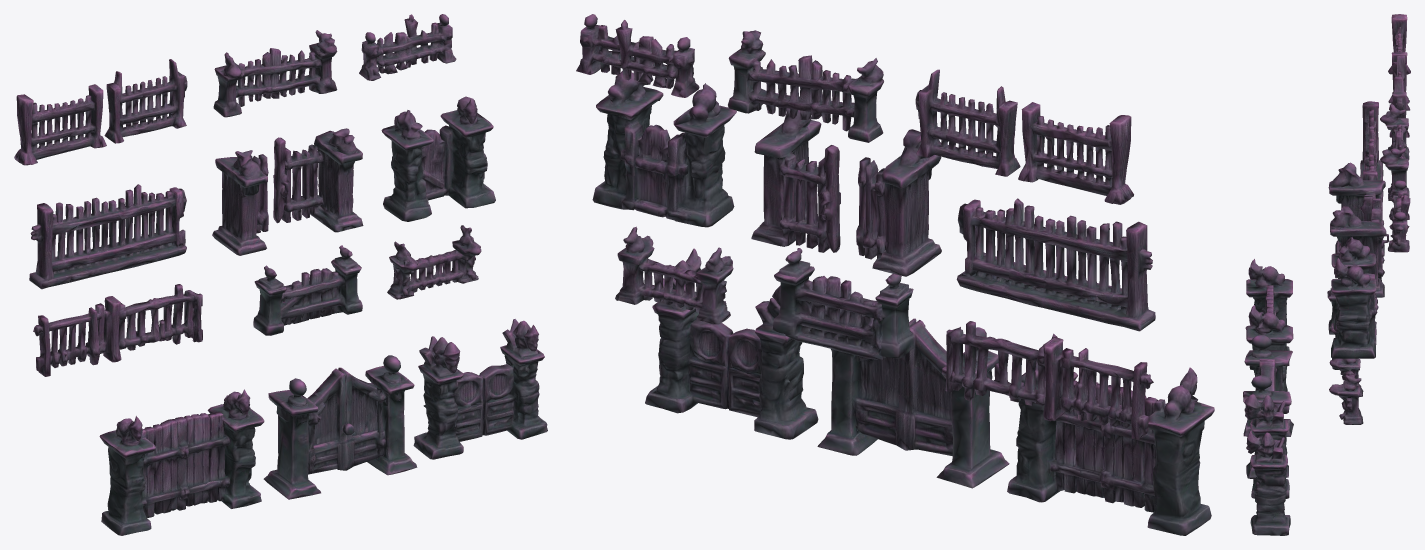
File: gothic_gate_collection.glb
The picture shows the model from 3 angles, left to right: view 1: azimuth 30°, elevation 25°; view 2: azimuth 150°, elevation 25°; view 3: azimuth 270°, elevation 25°; orthographic projection. The views are drawn at different scales.
Bounding box in the file's own units: 1.9 × 1.54 × 0.7007.
1 material, 1 textured.
